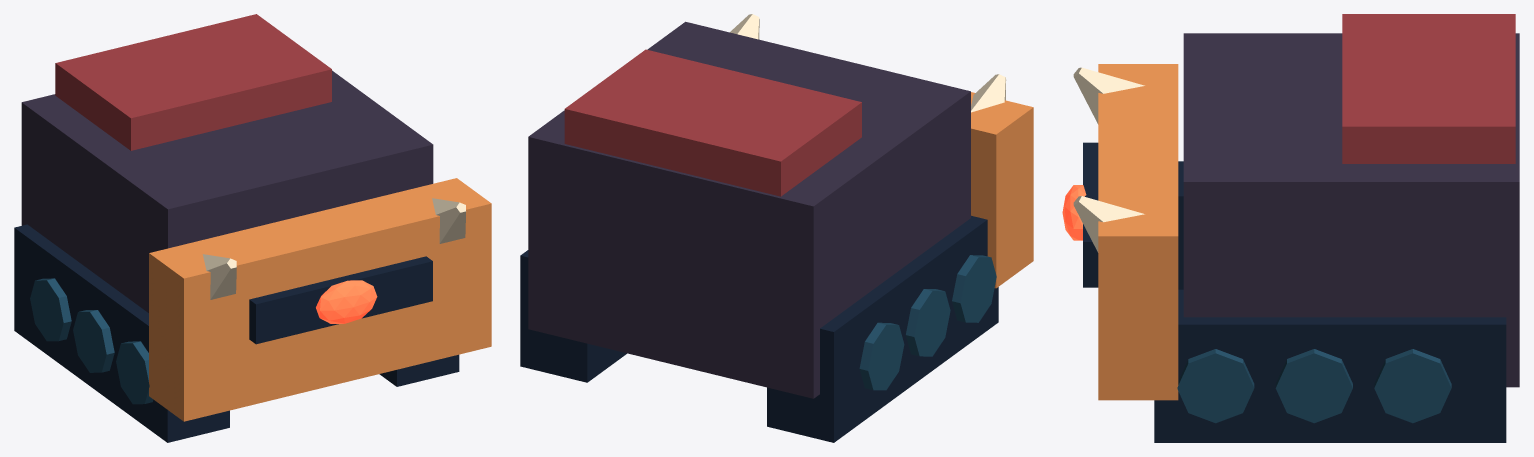
The model's file is mob-charger.glb.
3 renders of one model, left to right at view 1: azimuth 30°, elevation 25°; view 2: azimuth 150°, elevation 25°; view 3: azimuth 270°, elevation 25°, orthographic. The views are drawn at different scales.
Parts seen in each view (by area): view 1: Ram Plate, Cart Body, Back Plate, Tread, Eye Slit, Axle.002, ChargeLight, Axle.001, Axle, Tread.001, Tusks, Tusks.001; view 2: Cart Body, Back Plate, Tread, Ram Plate, Tread.001, Axle.002, Axle.001, Axle, Tusks; view 3: Cart Body, Tread.001, Ram Plate, Back Plate, Axle.005, Axle.004, Axle.003, Eye Slit, Tusks, Tusks.001, ChargeLight, Tread.
Part boxes in pixels (x1,y1,x2,y2): Ram Plate: (149,178,491,421); Cart Body: (21,70,433,312); Back Plate: (55,14,331,150); Tread: (14,224,229,442); Eye Slit: (249,256,432,344); Axle.002: (30,278,71,341); ChargeLight: (316,280,377,323); Axle.001: (73,310,114,372); Axle: (116,341,153,404); Tread.001: (379,354,459,386); Tusks: (202,254,236,299); Tusks.001: (432,198,466,243); Cart Body: (528,21,970,398); Back Plate: (564,49,861,196); Tread: (767,215,998,442); Ram Plate: (971,92,1033,288); Tread.001: (520,250,626,382); Axle.002: (859,322,904,390); Axle.001: (906,289,950,356); Axle: (952,255,996,322); Tusks: (971,74,1006,112); Cart Body: (1183,33,1519,387); Tread.001: (1154,289,1506,442); Ram Plate: (1098,64,1178,400); Back Plate: (1342,14,1515,163); Axle.005: (1374,349,1451,423); Axle.004: (1275,349,1352,423); Axle.003: (1177,349,1254,423); Eye Slit: (1083,142,1098,287); Tusks: (1073,67,1144,124); Tusks.001: (1073,196,1144,252); ChargeLight: (1062,185,1086,240); Tread: (1178,161,1183,289).
Size of the model in its own units: 1.53 by 1.2 by 1.71.
